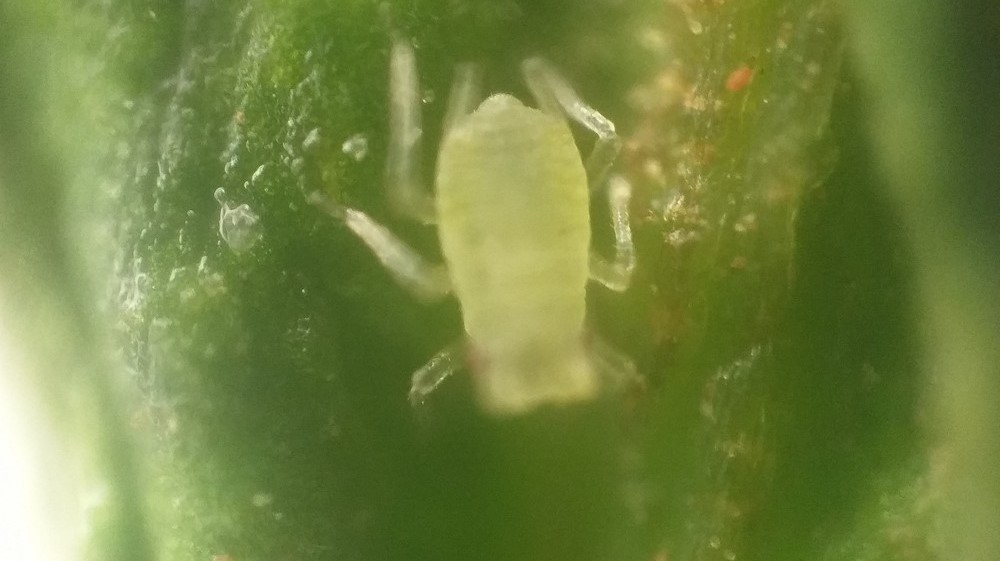Pulgon: (312, 34, 698, 463)
